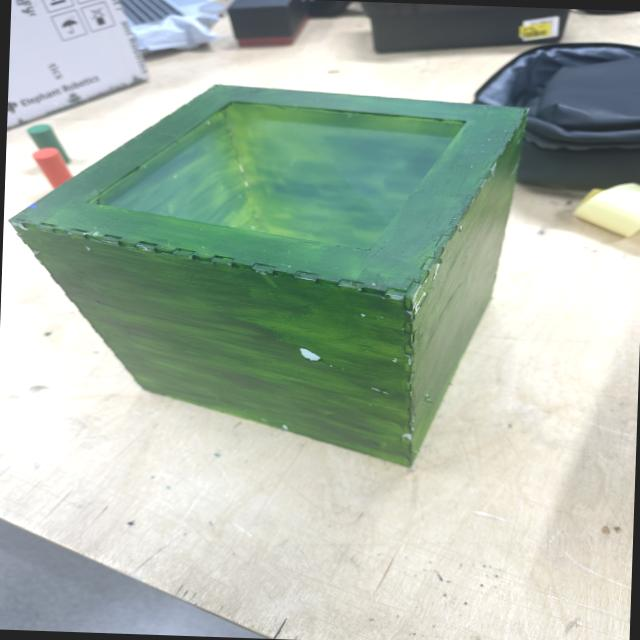red_bin: (1, 76, 532, 473)
